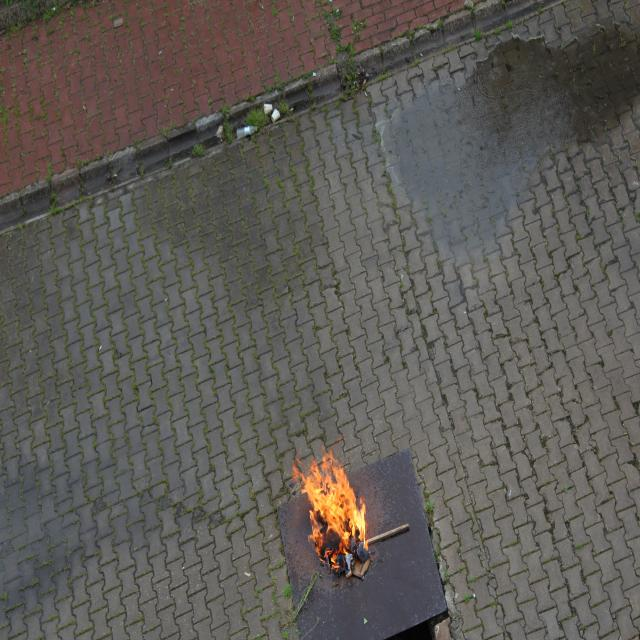fire: (285, 428, 393, 586)
